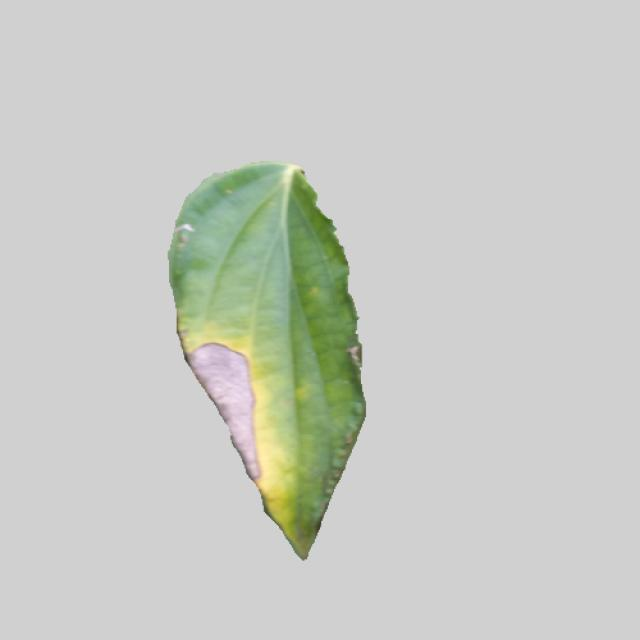leaf-blight: (159, 159, 370, 558)
